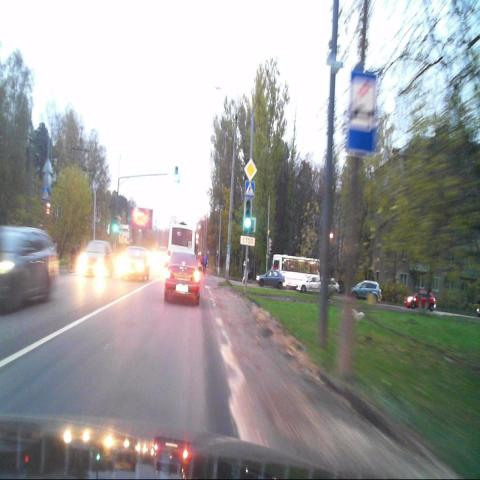7_2: (348, 72, 376, 153)
